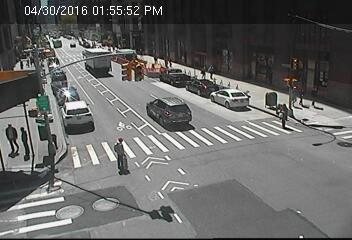neg: (219, 164, 250, 206), (60, 182, 91, 222), (220, 101, 245, 135), (166, 114, 188, 143), (101, 49, 121, 76), (267, 168, 287, 195), (133, 24, 153, 51), (147, 188, 167, 214), (60, 58, 79, 83), (242, 51, 260, 74), (130, 58, 147, 81), (307, 43, 324, 66), (177, 29, 194, 52), (308, 137, 324, 158), (291, 35, 306, 56), (111, 197, 126, 217), (70, 101, 85, 120), (194, 193, 208, 211)
pos: (106, 134, 139, 177), (1, 118, 27, 153), (14, 122, 40, 156), (273, 100, 294, 128), (309, 88, 323, 107), (295, 89, 308, 106), (207, 62, 219, 78), (195, 62, 207, 78)
